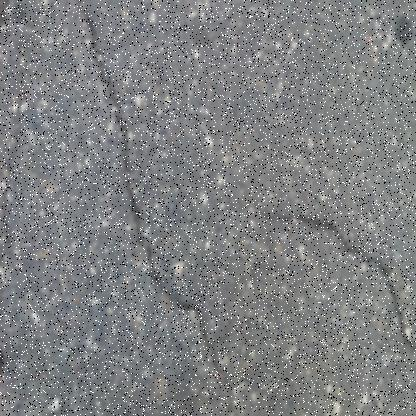Cracks: (74, 0, 228, 382), (268, 209, 415, 387)
